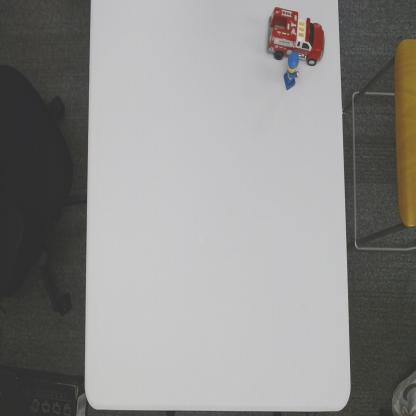Firetruck: (266, 6, 325, 66)
